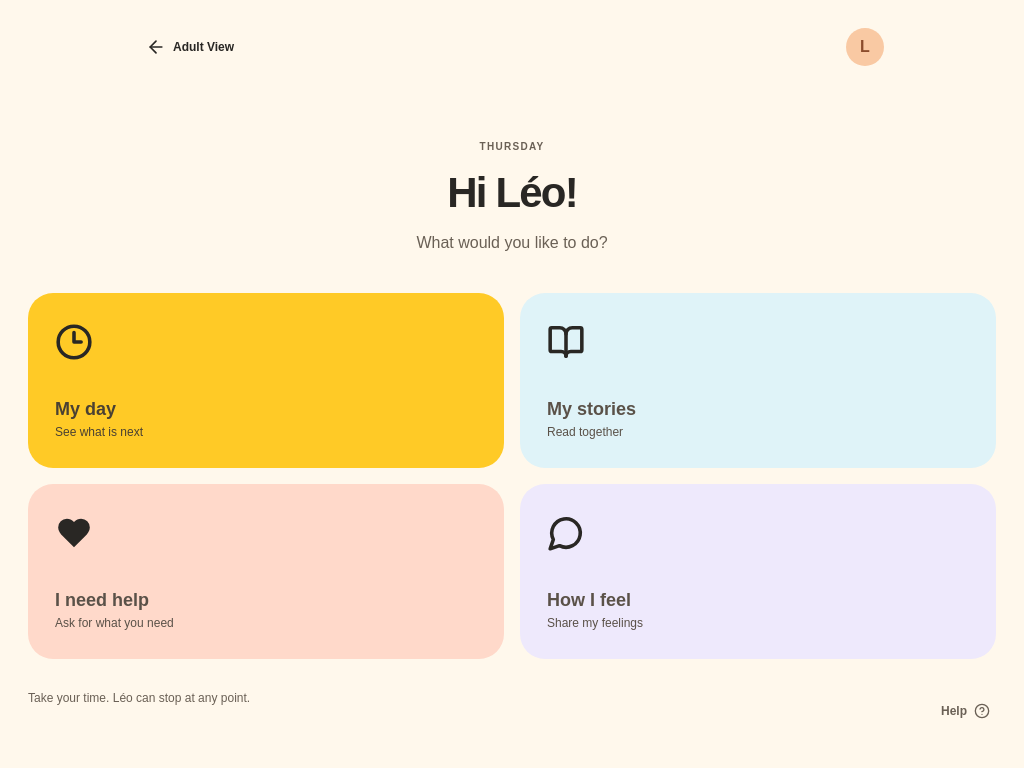
it: the request confirmation flow › shows the chosen request with Send and Change before anything is sent
This screenshot has width=1024, height=768.
Check: the heading "Hi Léo!" is shown, box [447, 169, 577, 216]
Click the button "I need help Ask for what you need" at x=74, y=533, box [28, 484, 504, 659]
(page scrolled)
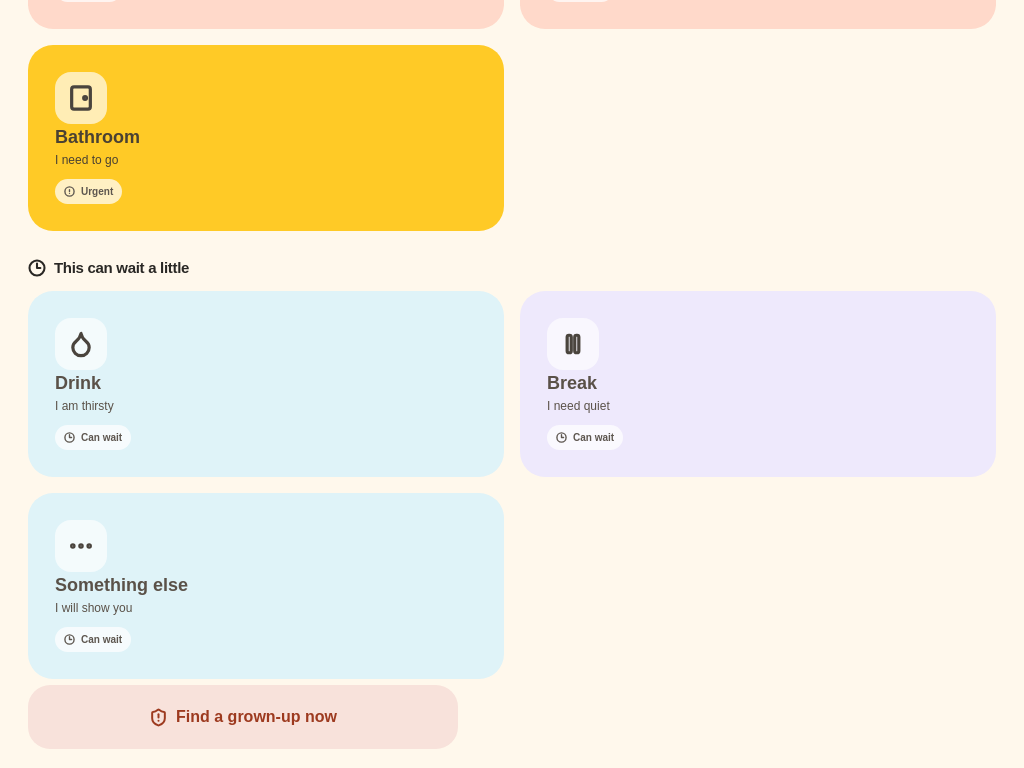
Click the button "Drink I am thirsty Can wait" at x=81, y=344, box [28, 291, 504, 477]
(page scrolled)
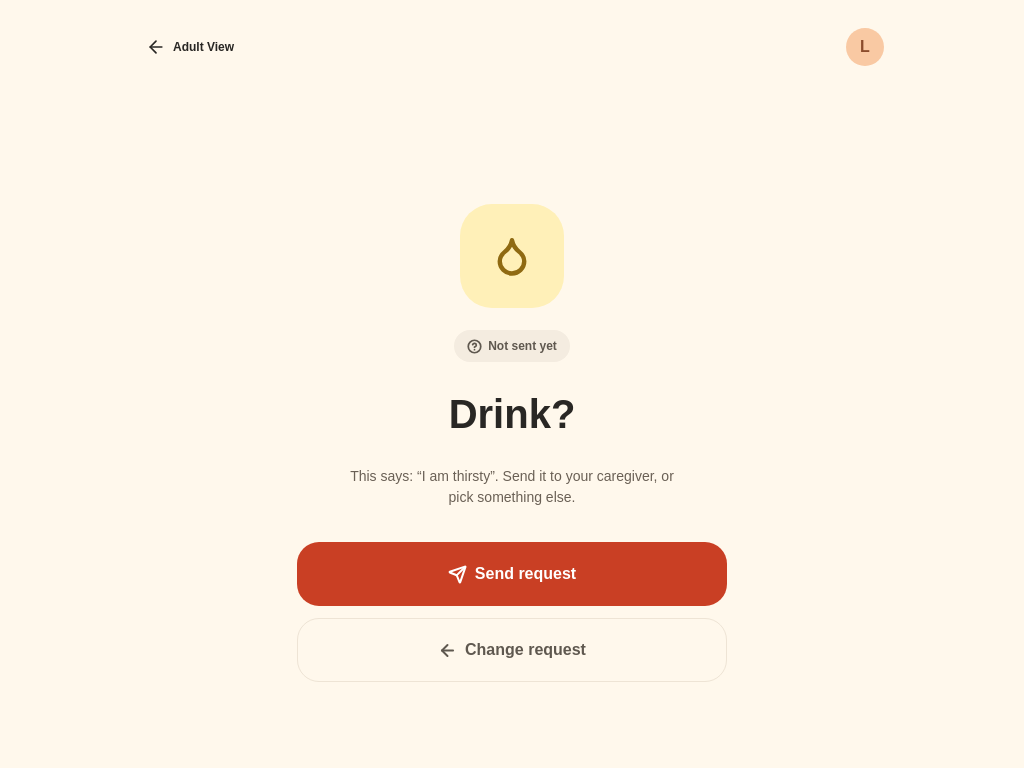
Check: the heading "Drink?" is shown, box [449, 384, 575, 444]
Check: the text "Not sent yet" is shown, box [454, 330, 570, 362]
Check: the button "Send request" is shown, box [297, 542, 727, 606]
